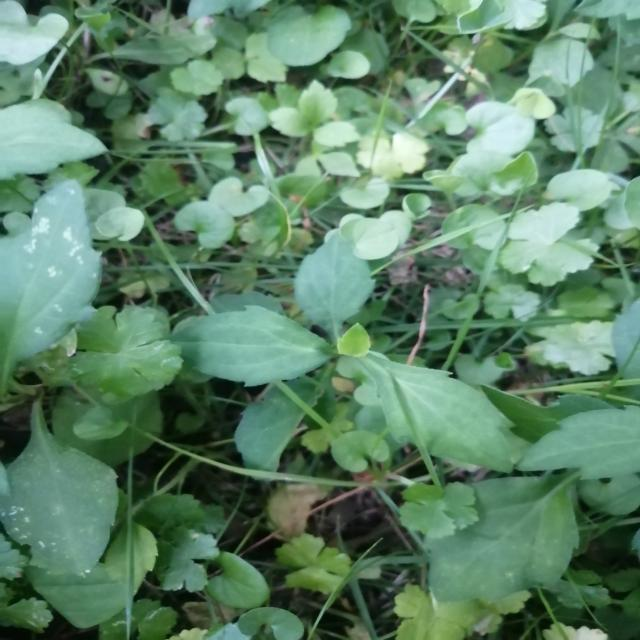Indian aster: (194, 244, 493, 473)
